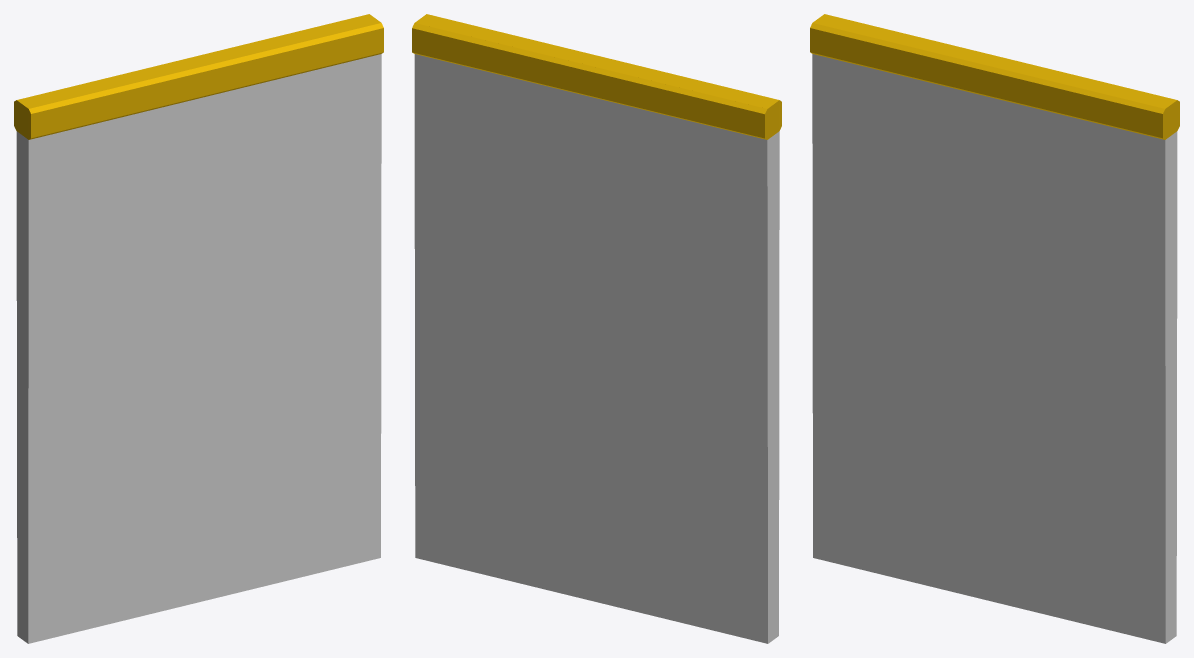
Rendered from wall_56.fbx.
3 renders of one model, left to right at view 1: azimuth 30°, elevation 25°; view 2: azimuth 150°, elevation 25°; view 3: azimuth 330°, elevation 25°, orthographic.
Parts seen in each view (by area): view 1: WALL_8.002; view 2: WALL_8.002; view 3: WALL_8.002.
Part boxes in pixels (x1=…): WALL_8.002: x1=14, y1=14, x2=383, y2=643; WALL_8.002: x1=412, y1=14, x2=781, y2=643; WALL_8.002: x1=810, y1=14, x2=1179, y2=643.
Size of the model in its own units: 3.33 by 4.83 by 0.2785.
